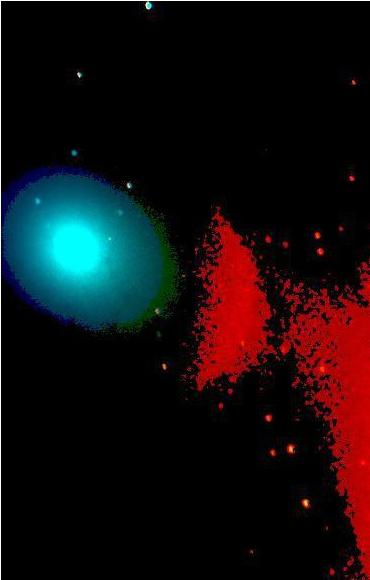star: (94, 225, 124, 255)
